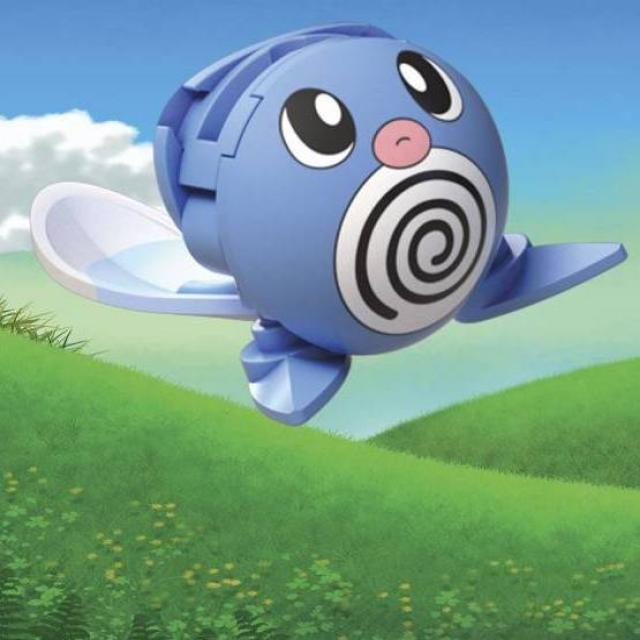Poliwag: (141, 20, 590, 361)
